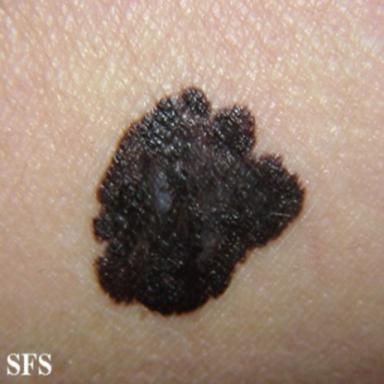Melanoma: (94, 88, 305, 315)
